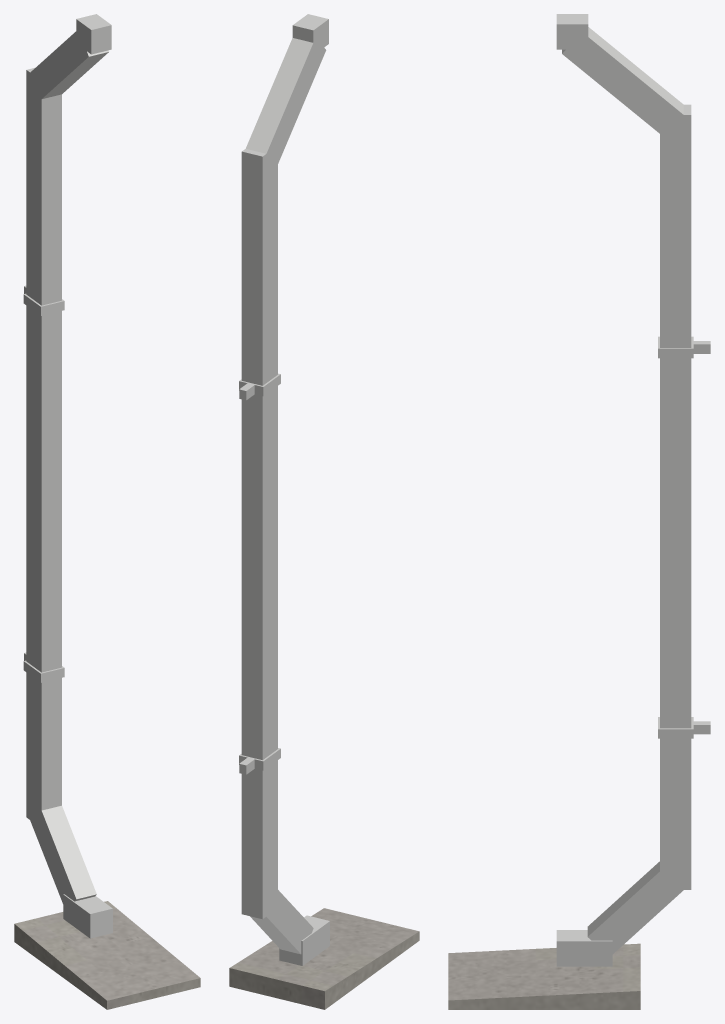
The model's file is downspout_barn.glb.
The picture shows the model from 3 angles, left to right: view 1: azimuth 30°, elevation 25°; view 2: azimuth 150°, elevation 25°; view 3: azimuth 270°, elevation 25°; orthographic projection. The views are drawn at different scales.
Parts seen in each view (by area): view 1: downspout_barn_gutter, downspout_barn_concrete; view 2: downspout_barn_gutter, downspout_barn_concrete; view 3: downspout_barn_gutter, downspout_barn_concrete.
Boxes of the visible parts, x1,y1,x2,y2 form: downspout_barn_gutter: [23, 14, 112, 938]; downspout_barn_concrete: [14, 901, 200, 1009]; downspout_barn_gutter: [239, 14, 329, 965]; downspout_barn_concrete: [229, 908, 419, 1009]; downspout_barn_gutter: [556, 14, 710, 966]; downspout_barn_concrete: [448, 943, 640, 1009].
Size of the model in its own units: 0.32 by 3.05 by 0.75.
Materials: 2 (1 with a texture image).
